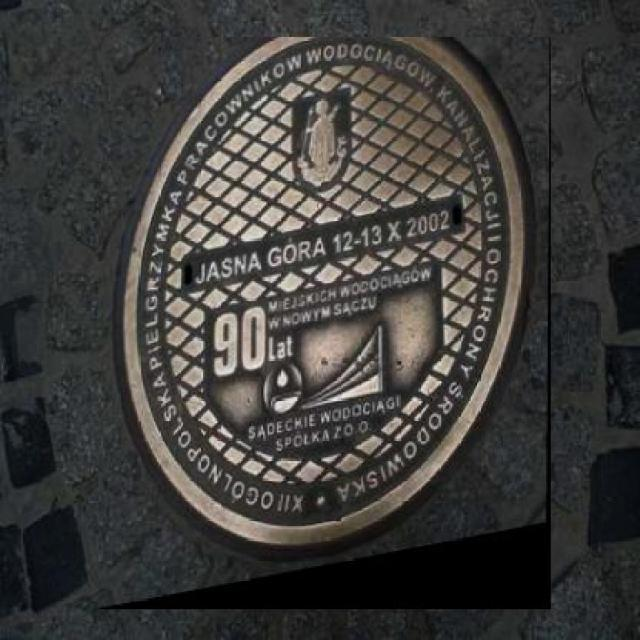Manhole: (98, 36, 552, 610)
